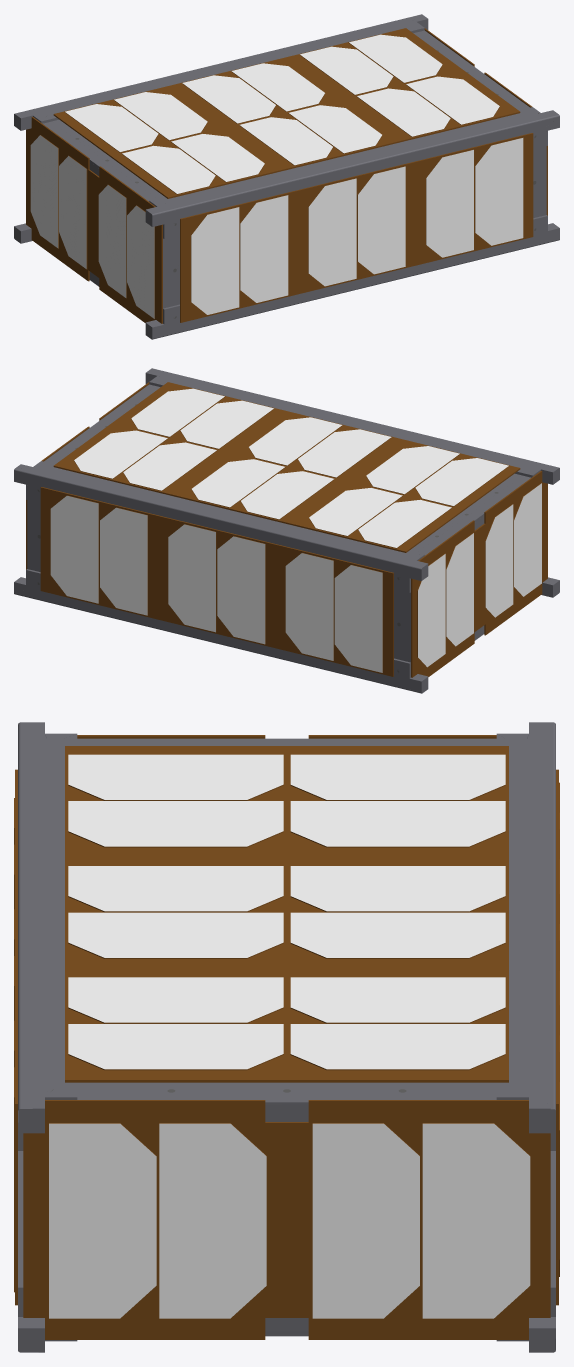
File: cubesat_6u -White Cell Ambient+diffuse.dae
3 views of the same model, one above another, from view 1: azimuth 30°, elevation 25°; view 2: azimuth 150°, elevation 25°; view 3: azimuth 270°, elevation 25° (orthographic). The views are drawn at different scales.
Visible parts, largest first — view 1: Plus-Z-Cells, Minus-Y-Cells, 6U-Cubesat, Plus-Z-Plate, Minus-X-Cells, Minus-Y-Plate, Minus-X-Plate, Plus-X-Plate; view 2: Plus-Z-Cells, Plus-Y-Cells, 6U-Cubesat, Plus-Z-Plate, Minus-X-Cells, Plus-Y-Plate, Minus-X-Plate, Plus-X-Plate; view 3: Plus-Z-Cells, Plus-X-Cells, 6U-Cubesat, Plus-X-Plate, Plus-Z-Plate, Minus-Y-Plate, Plus-Y-Plate, Minus-X-Plate.
Boxes of the visible parts, <box> form: Plus-Z-Cells: <box>65,34,499,193</box>; Minus-Y-Cells: <box>191,138,523,314</box>; 6U-Cubesat: <box>14,14,559,339</box>; Plus-Z-Plate: <box>53,28,520,198</box>; Minus-X-Cells: <box>30,135,154,318</box>; Minus-Y-Plate: <box>180,133,533,322</box>; Minus-X-Plate: <box>26,116,162,323</box>; Plus-X-Plate: <box>424,28,547,215</box>; Plus-Z-Cells: <box>74,388,508,547</box>; Plus-Y-Cells: <box>50,496,382,672</box>; 6U-Cubesat: <box>14,368,559,693</box>; Plus-Z-Plate: <box>53,382,520,552</box>; Minus-X-Cells: <box>418,483,541,667</box>; Plus-Y-Plate: <box>40,487,393,676</box>; Minus-X-Plate: <box>411,471,547,677</box>; Plus-X-Plate: <box>26,382,149,569</box>; Plus-Z-Cells: <box>68,754,505,1069</box>; Plus-X-Cells: <box>49,1123,530,1318</box>; 6U-Cubesat: <box>18,722,555,1352</box>; Plus-X-Plate: <box>23,1100,550,1339</box>; Plus-Z-Plate: <box>65,746,508,1082</box>; Minus-Y-Plate: <box>14,769,17,1305</box>; Plus-Y-Plate: <box>556,769,559,1305</box>; Minus-X-Plate: <box>77,735,496,738</box>.
Size of the model in its own units: 0.4016 by 0.2398 by 0.1217.
